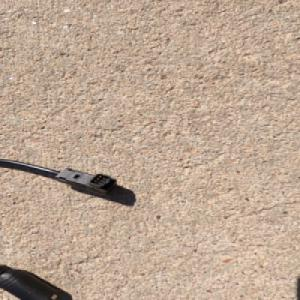Wire: (0, 156, 119, 300)
